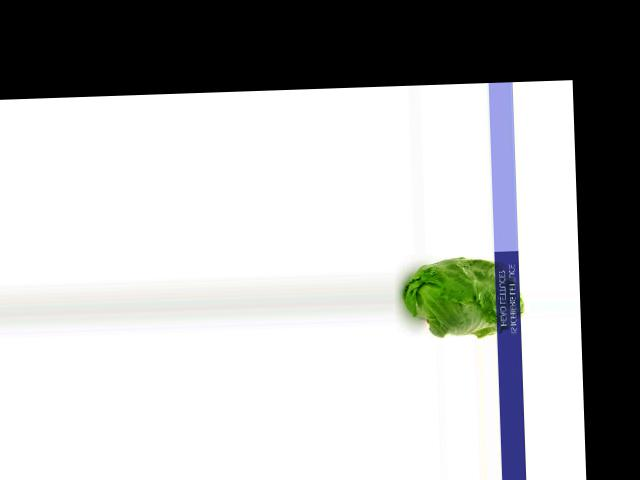lettuce: (397, 258, 525, 340)
